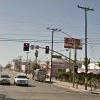Traffic light: (13, 34, 55, 62)
